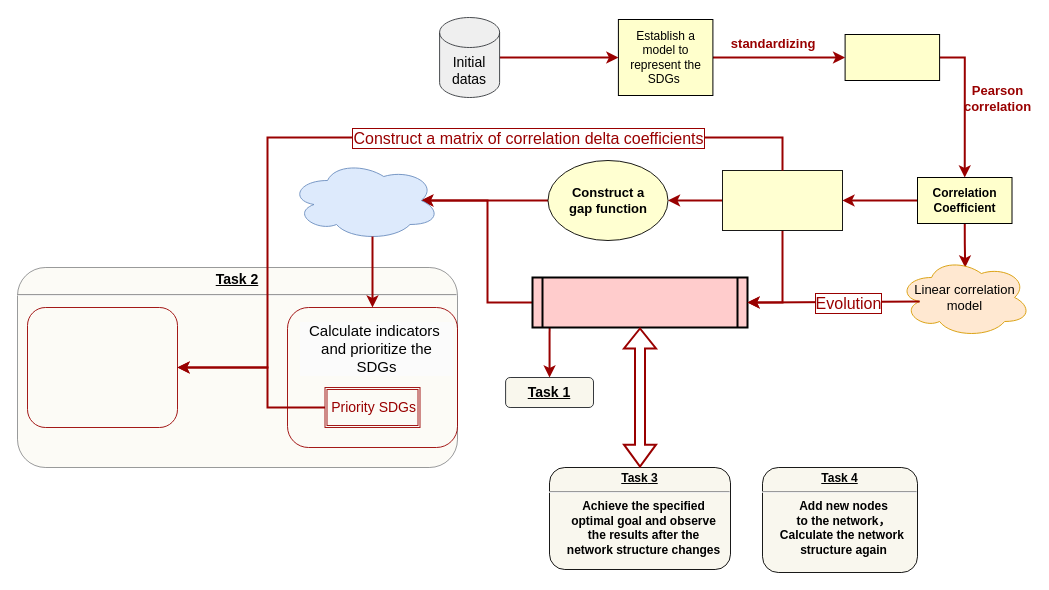
Some shapes in this 1049 by 590 pixel diagram are drawn without their labels. The centre of each missing label's shape, as x and y in pixels:
"Build Network Incremental Propagation Model to analyze and predict" belongs at pixel 102 367.
"Normalized SDGs" belongs at pixel 892 57.
"Priority indicators model" belongs at pixel 364 200.
"The relevant increment factor" belongs at pixel 782 200.
"Weighted Directed SDGs Network" belongs at pixel 639 302.
